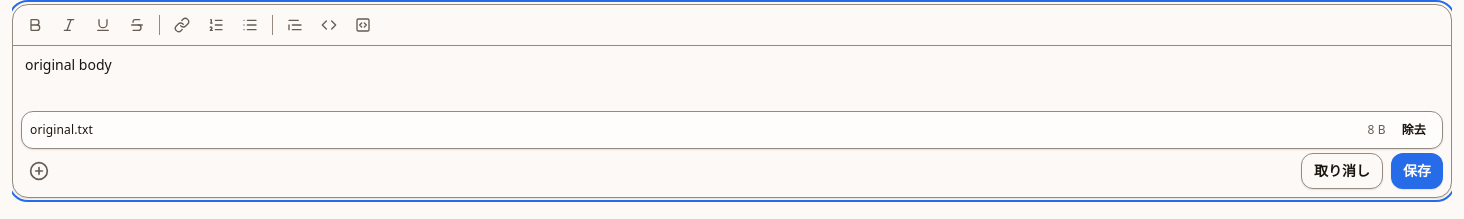
it: PostEditor › 開いている最中にポストが更新されたら入力を残したまま上書きを警告する
Step 1. Replace the text in the text box with test id "composer-input" with "my own draft" → x=732, y=76, box [13,46,1451,105]
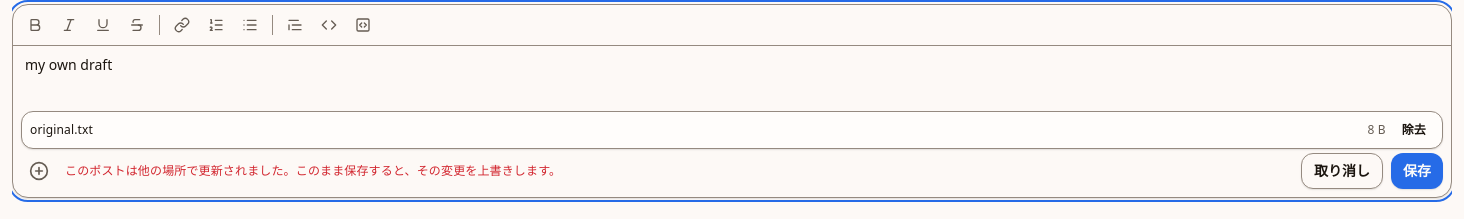
Now the message reads "このポストは他の場所で更新されました。このまま保存すると、その変更を上書きします。", box [65,162,561,179]
